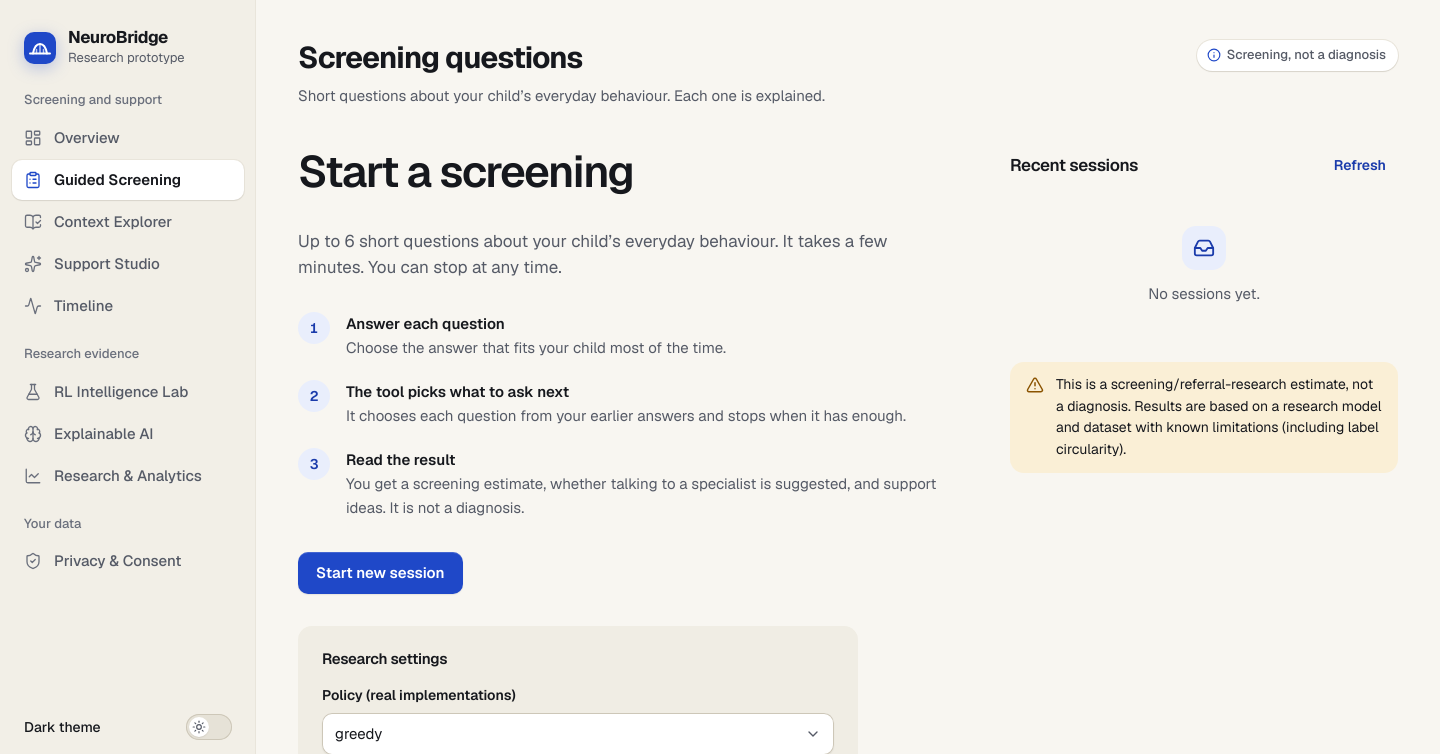
Test: guided screening › runs start -> answer -> result, posting the item index and the scored value
Click the button "Start new session" at (380, 573), box [298,552,462,594]
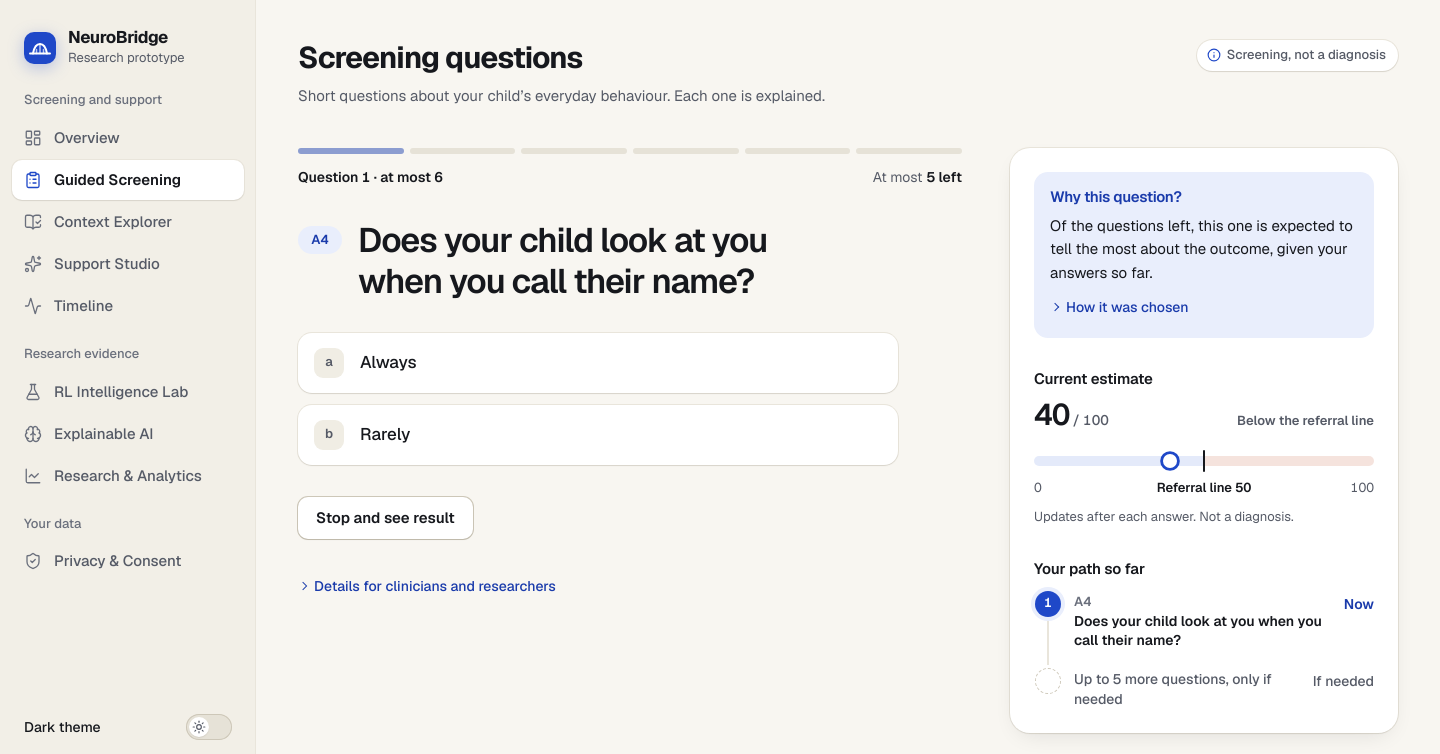
Check: the heading "A4 Does your child look at you when you call their name?" is shown, box [298,218,767,302]
Check: the button "a Always" is shown, box [298,333,898,393]
Click the button "b Rarely" at (385, 434), box [298,405,898,465]
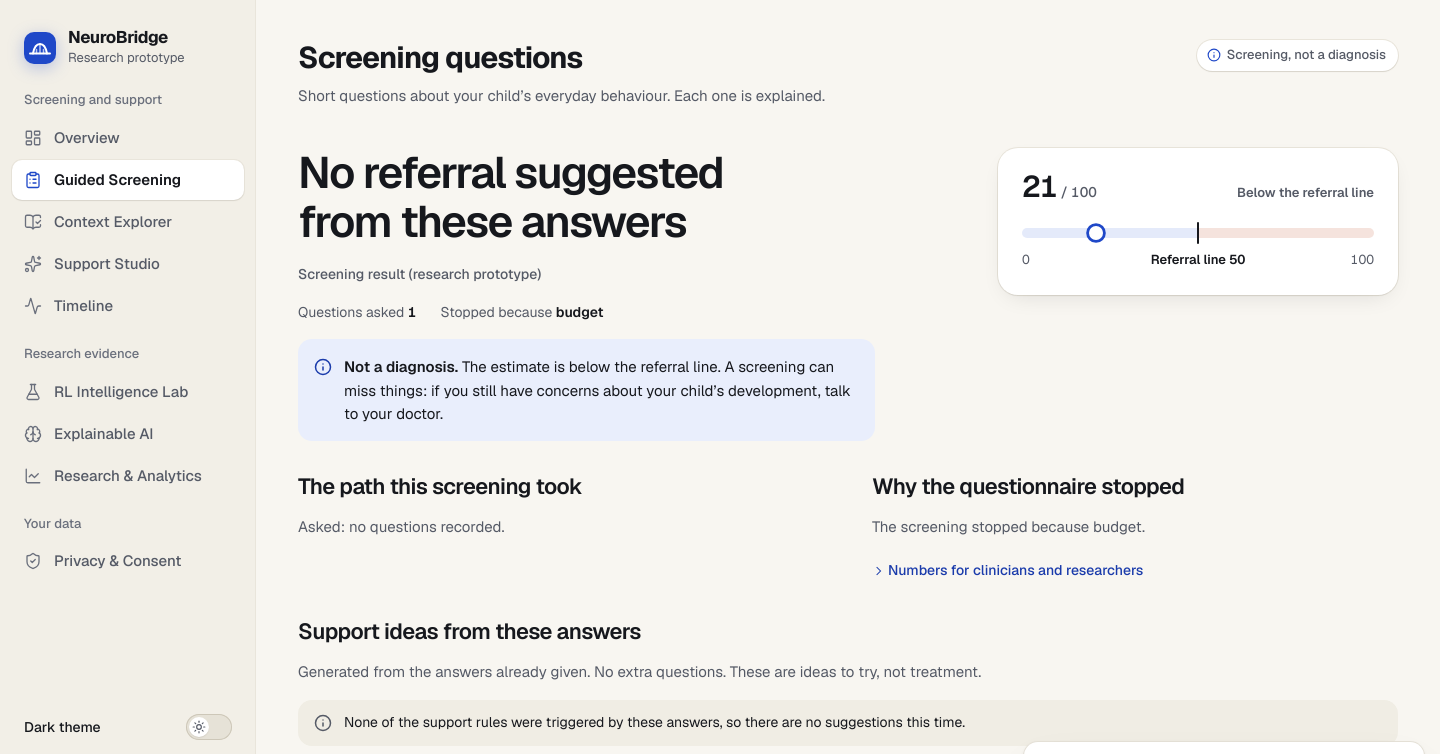
Check: the text "Not a diagnosis." is shown, box [344,357,458,376]
Check: the text "Screening result (research prototype)" is shown, box [298,264,541,282]
